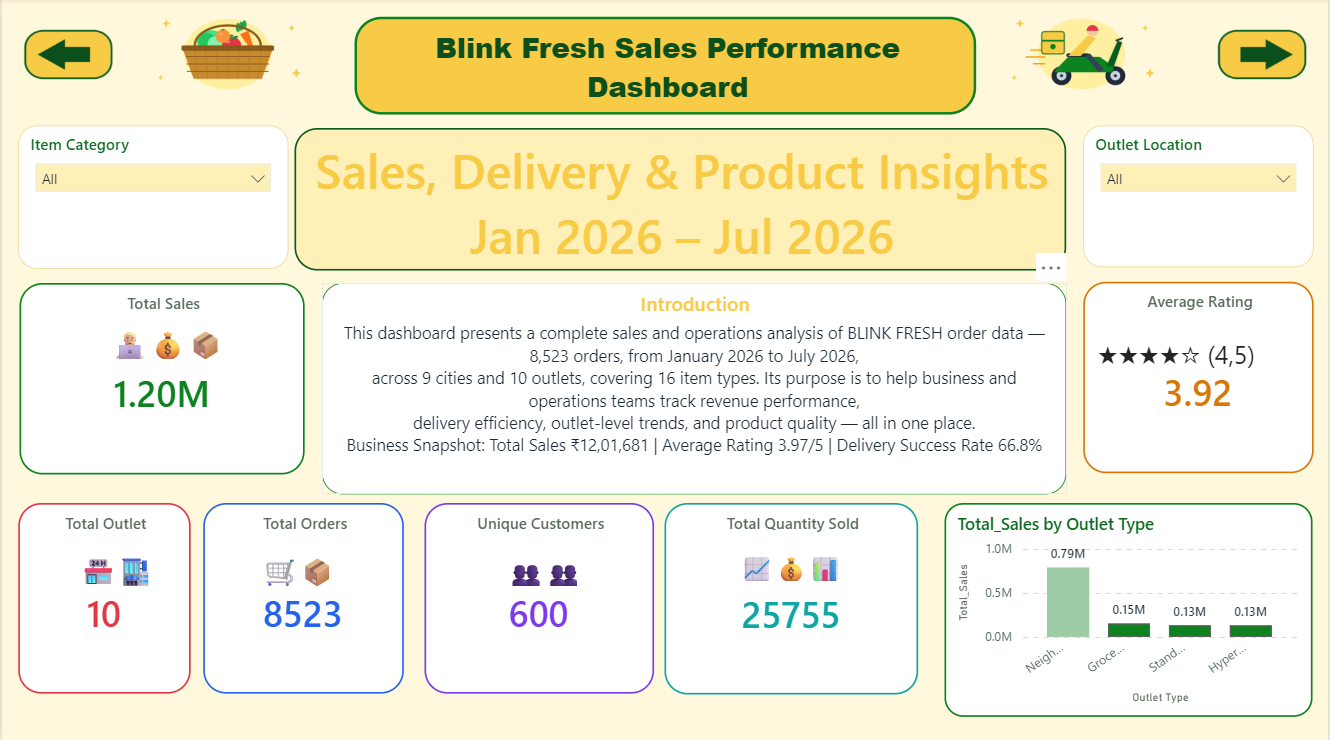

The page's visual inventory and layout, read from the dashboard file:
{"tool":"powerbi","page":{"name":"Introduction","canvas":[1280,720],"ordinal":1},"visuals":[{"type":"textbox","title":"Blink Fresh Sales Performance Dashboard","box":[340.2,18.1,599.6,94.1],"z":0},{"type":"image","box":[122,2,192,100],"z":1000},{"type":"image","box":[946,2,192,100],"z":2000},{"type":"textbox","title":"Sales, Delivery & Product Insights   Jan 2026 – Jul 2026","box":[282.5,125,745,137.5],"z":3000},{"type":"textbox","title":"Introduction","box":[308.8,275,718.8,203.8],"z":4000},{"type":"cardVisual","title":"Total Sales","fields":{"Data":["blinkit_data_master.Total_Sales"]},"box":[16.7,275,275,184.5],"z":5000},{"type":"cardVisual","title":"Average Rating","fields":{"Data":["blinkit_data_master.Average_Rating"]},"box":[1043.1,273.9,222.6,184.6],"z":6000},{"type":"cardVisual","title":"Total Outlet","fields":{"Data":["blinkit_data_master.Outlet_count"]},"box":[16.2,487.5,166.2,183.8],"z":7000},{"type":"slicer","title":"Outlet Location","fields":{"Values":["blinkit_data_master.Outlet Location Type","blinkit_data_master.City","blinkit_data_master.Item Category"]},"box":[1043.1,123.5,222.6,137],"z":8000},{"type":"slicer","title":"Item Category","fields":{"Values":["blinkit_data_master.Item Category"]},"box":[15.9,123.5,260.5,138.2],"z":9000},{"type":"cardVisual","title":"Total Orders","fields":{"Data":["blinkit_data_master.Toatl_order"]},"box":[193.8,487.5,193.8,183.8],"z":10000},{"type":"cardVisual","title":"Unique Customers","fields":{"Data":["blinkit_data_master.Unique_Customer"]},"box":[407.5,487.5,221.2,183.8],"z":11000},{"type":"cardVisual","title":"Total Quantity Sold","fields":{"Data":["blinkit_data_master.Total_Quantity"]},"box":[640,487.5,245,185],"z":12000},{"type":"clusteredColumnChart","fields":{"Category":["blinkit_data_master.Outlet Type"],"Y":["blinkit_data_master.Total_Sales"]},"box":[910,487.5,355,206.2],"z":13000},{"type":"textbox","box":[100.3,311.8,192,47.7],"z":14000},{"type":"textbox","box":[1051.6,322.8,201.8,45.2],"z":15000},{"type":"textbox","box":[41.6,529.5,140.6,112.5],"z":16000},{"type":"textbox","box":[172.4,529.5,227.4,50.1],"z":17000},{"type":"textbox","box":[419.4,529.5,209.1,50.1],"z":18000},{"type":"textbox","box":[639.5,529.5,244.6,50.1],"z":19000},{"type":"image","box":[12,22,104,66],"z":20000},{"type":"image","box":[1164,22,104,66],"z":21000}]}

Visuals, with their boxes in screenshot pixels (x1, y1, x2, y2), scaled from the page's 1280x720 canvas onto the 1330x740 screenshot:
"Blink Fresh Sales Performance Dashboard" textbox: BBox(353, 19, 977, 115)
image: BBox(127, 2, 326, 105)
image: BBox(983, 2, 1182, 105)
"Sales, Delivery & Product Insights   Jan 2026 – Jul 2026" textbox: BBox(294, 128, 1068, 270)
"Introduction" textbox: BBox(321, 283, 1068, 492)
"Total Sales" cardVisual: BBox(17, 283, 303, 472)
"Average Rating" cardVisual: BBox(1084, 282, 1315, 471)
"Total Outlet" cardVisual: BBox(17, 501, 190, 690)
"Outlet Location" slicer: BBox(1084, 127, 1315, 268)
"Item Category" slicer: BBox(17, 127, 287, 269)
"Total Orders" cardVisual: BBox(201, 501, 403, 690)
"Unique Customers" cardVisual: BBox(423, 501, 653, 690)
"Total Quantity Sold" cardVisual: BBox(665, 501, 920, 691)
clusteredColumnChart - blinkit_data_master.Outlet Type x blinkit_data_master.Total_Sales: BBox(946, 501, 1314, 713)
textbox: BBox(104, 320, 304, 369)
textbox: BBox(1093, 332, 1302, 378)
textbox: BBox(43, 544, 189, 660)
textbox: BBox(179, 544, 415, 596)
textbox: BBox(436, 544, 653, 596)
textbox: BBox(664, 544, 919, 596)
image: BBox(12, 23, 121, 90)
image: BBox(1209, 23, 1318, 90)
